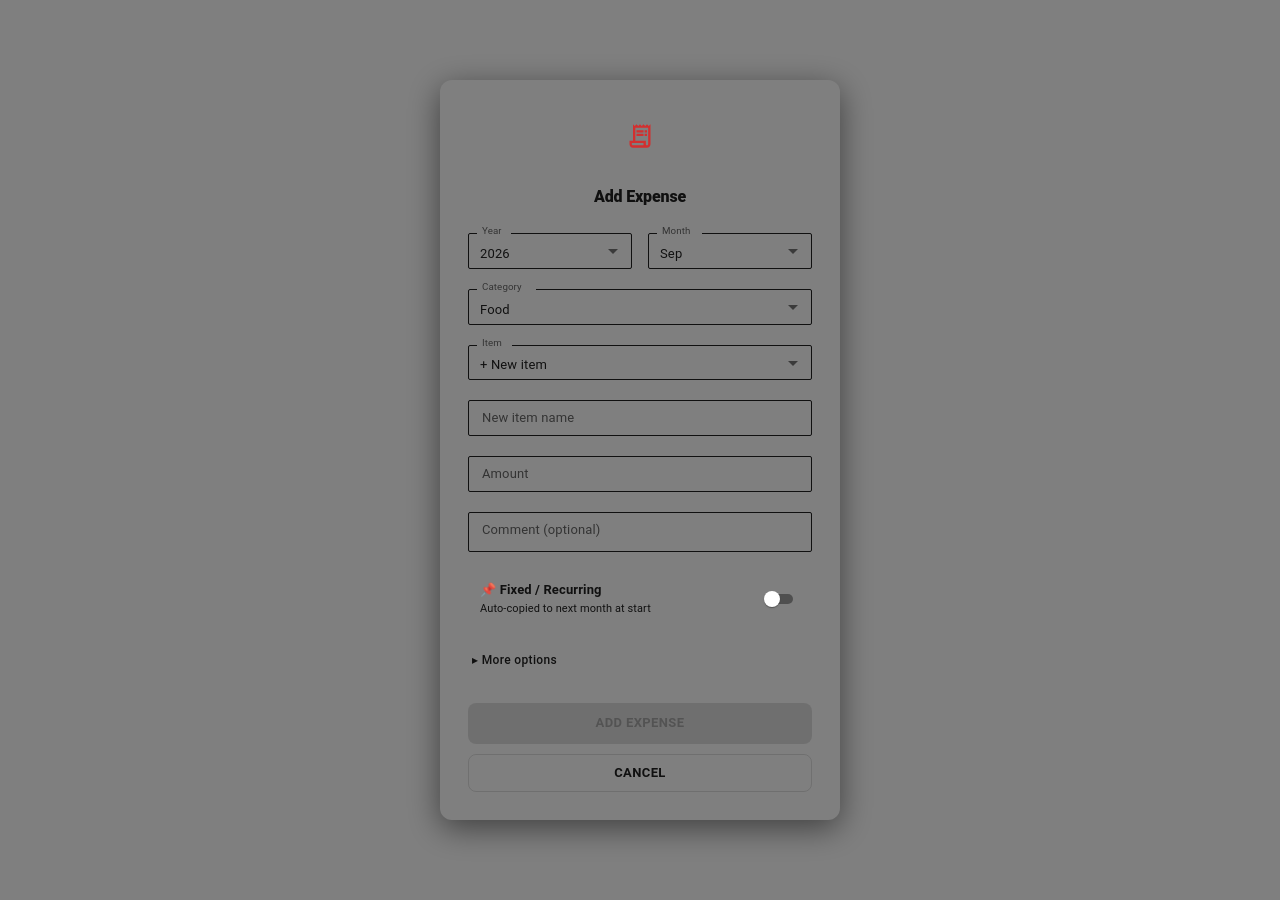
Scenario: AddExpenseModal pick an existing item › lists this month's items in the category and adds the amount to the one picked
Later steps or results of the test are not shown.
Select "Petrol (₹2,000)" in the 4th dropdown named "+ New item" at coordinates (640, 363), box [468,345,812,380]
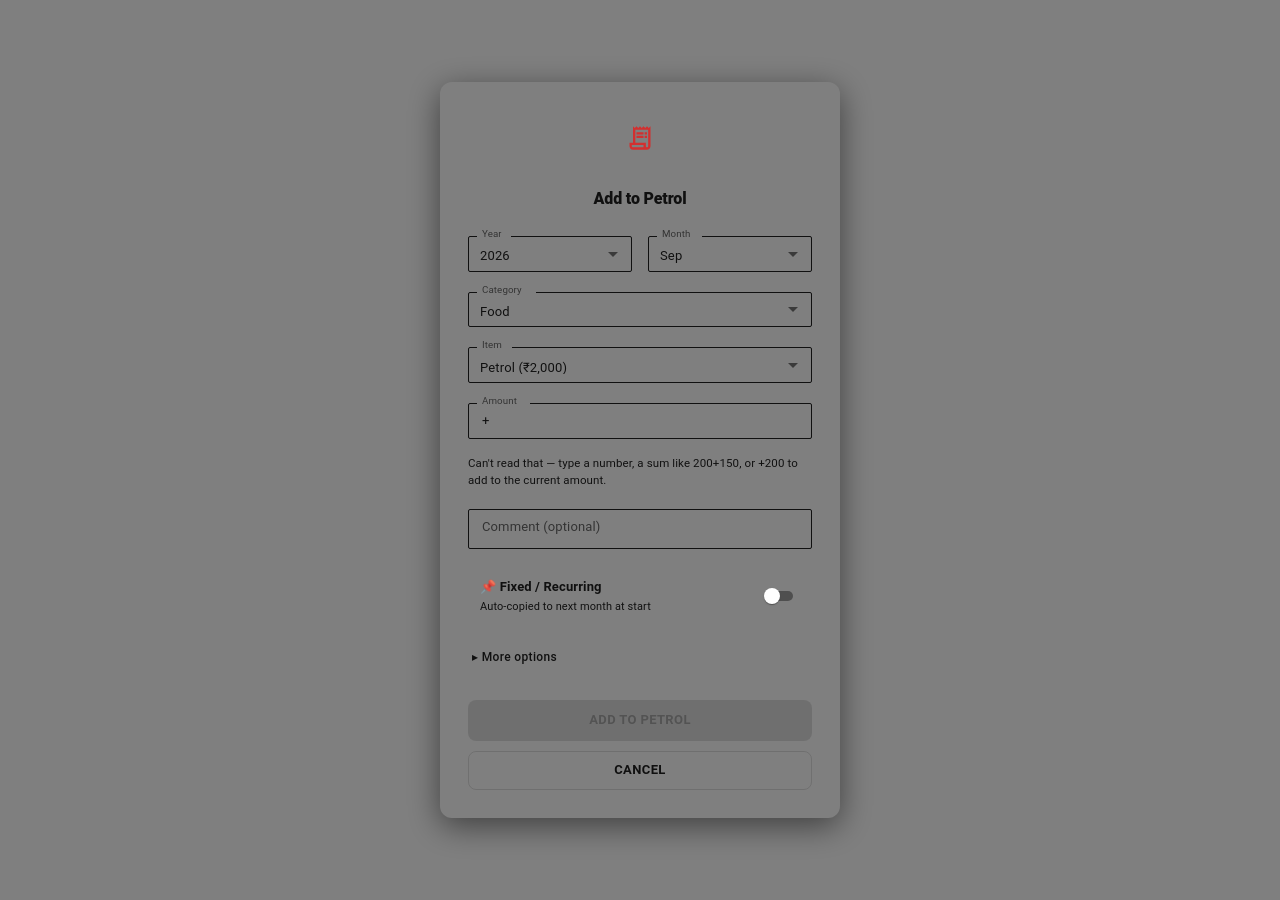
Expected: the field with placeholder "e.g. Electricity Bill" is not shown
Expected: the field labelled "Amount" holds "+", [468,403,812,439]
